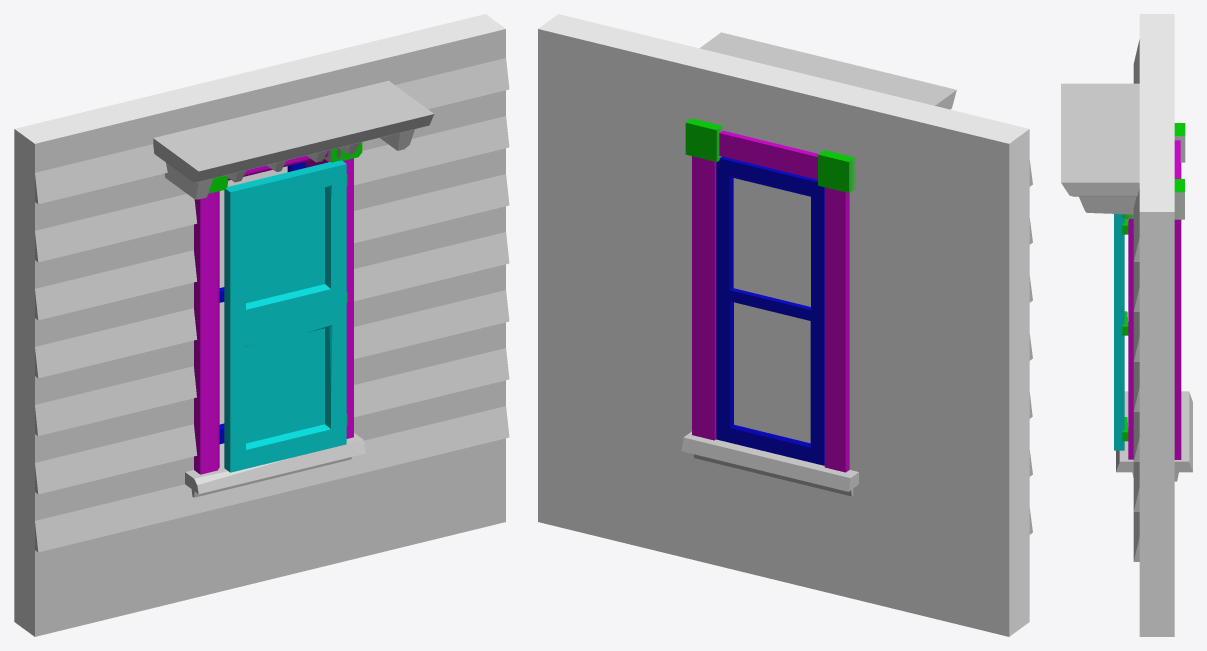
The model's file is EAThe80_WindowSmall_4x4.fbx.
3 views of the same model, side by side, from view 1: azimuth 30°, elevation 25°; view 2: azimuth 150°, elevation 25°; view 3: azimuth 270°, elevation 25° (orthographic). The views are drawn at different scales.
Visible parts, largest first — view 1: EAThe80_WindowSmall_4x4_01, EAThe80_WallInter_Small_01_L, EAThe80_WindowRoof_x2_01, EAThe80_Window_int_02; view 2: EAThe80_WindowSmall_4x4_01, EAThe80_Window_int_02, EAThe80_WindowRoof_x2_01; view 3: EAThe80_WindowSmall_4x4_01, EAThe80_WindowRoof_x2_01, EAThe80_WallInter_Small_01_L.
Part boxes in pixels (x1,y1,x2,y2): EAThe80_WindowSmall_4x4_01: (14, 14, 509, 636); EAThe80_WallInter_Small_01_L: (224, 160, 347, 472); EAThe80_WindowRoof_x2_01: (153, 80, 434, 199); EAThe80_Window_int_02: (219, 162, 305, 444); EAThe80_WindowSmall_4x4_01: (538, 14, 1032, 636); EAThe80_Window_int_02: (716, 156, 824, 465); EAThe80_WindowRoof_x2_01: (699, 32, 956, 109); EAThe80_WindowSmall_4x4_01: (1116, 14, 1192, 636); EAThe80_WindowRoof_x2_01: (1061, 83, 1139, 214); EAThe80_WallInter_Small_01_L: (1114, 214, 1128, 450).
Bounding box in the file's own units: 4 × 4 × 1.13.
